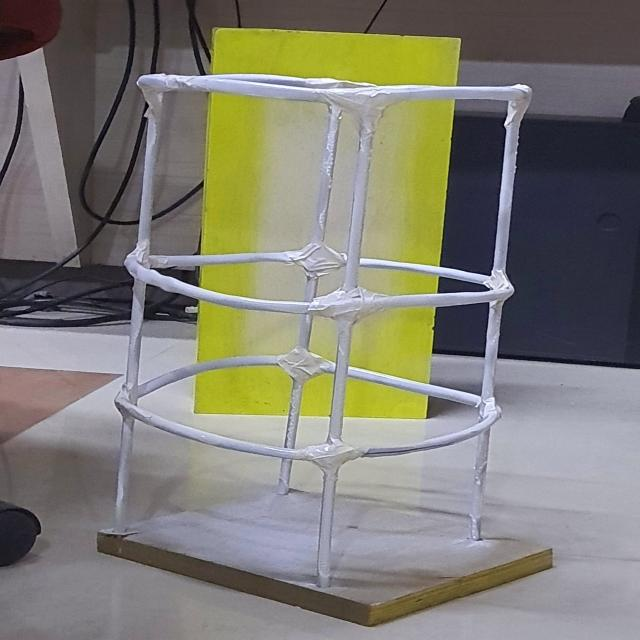silo: (115, 61, 538, 594)
